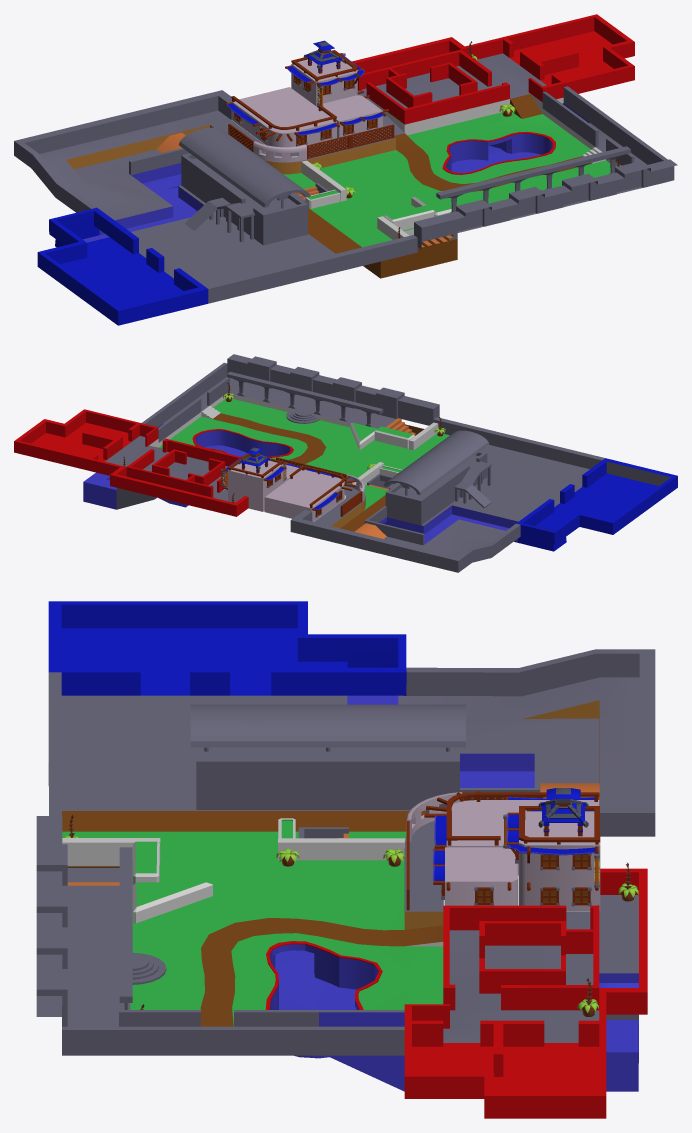
File: ステージ2.fbx
3 renders of one model, top to bottom at view 1: azimuth 30°, elevation 25°; view 2: azimuth 150°, elevation 25°; view 3: azimuth 270°, elevation 25°, orthographic. The views are drawn at different scales.
Visible parts, largest first — view 1: TIKEI, 高台, obj2, obj1, KABE, obj3, obj4, 階段; view 2: TIKEI, obj1, 高台, obj2, KABE, obj4, 階段, obj3; view 3: TIKEI, 高台, obj2, KABE, obj1, obj4, kusa, obj3.
Part boxes in pixels (x1=…): TIKEI: x1=14, y1=14, x2=674, y2=325; 高台: x1=179, y1=127, x2=310, y2=245; obj2: x1=225, y1=40, x2=388, y2=147; obj1: x1=414, y1=146, x2=677, y2=249; KABE: x1=358, y1=49, x2=509, y2=124; obj3: x1=228, y1=124, x2=394, y2=162; obj4: x1=305, y1=189, x2=463, y2=230; 階段: x1=156, y1=132, x2=605, y2=248; TIKEI: x1=14, y1=362, x2=677, y2=572; obj1: x1=227, y1=354, x2=439, y2=427; 高台: x1=383, y1=430, x2=491, y2=525; obj2: x1=220, y1=447, x2=355, y2=521; KABE: x1=126, y1=438, x2=240, y2=497; obj4: x1=350, y1=422, x2=414, y2=476; 階段: x1=201, y1=406, x2=415, y2=538; obj3: x1=276, y1=457, x2=364, y2=516; TIKEI: x1=48, y1=601, x2=655, y2=1118; 高台: x1=190, y1=704, x2=465, y2=809; obj2: x1=424, y1=788, x2=600, y2=911; KABE: x1=443, y1=905, x2=599, y2=1010; obj1: x1=36, y1=816, x2=166, y2=1026; obj4: x1=132, y1=818, x2=295, y2=923; kusa: x1=64, y1=814, x2=638, y2=1016; obj3: x1=406, y1=792, x2=543, y2=910.
Size of the model in its own units: 13270 by 2128 by 6778.
